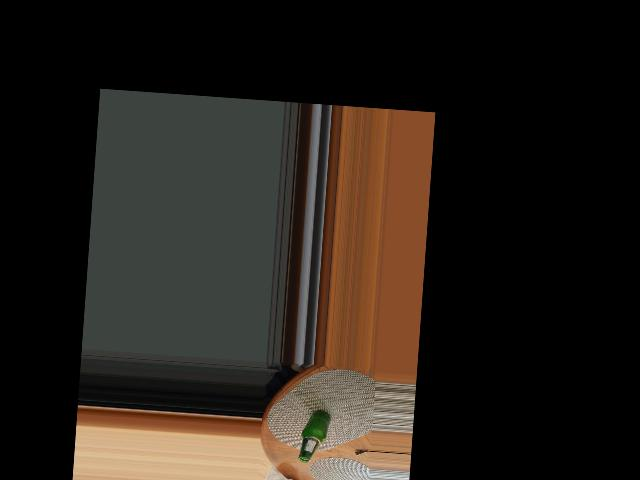beer: (299, 409, 331, 463)
